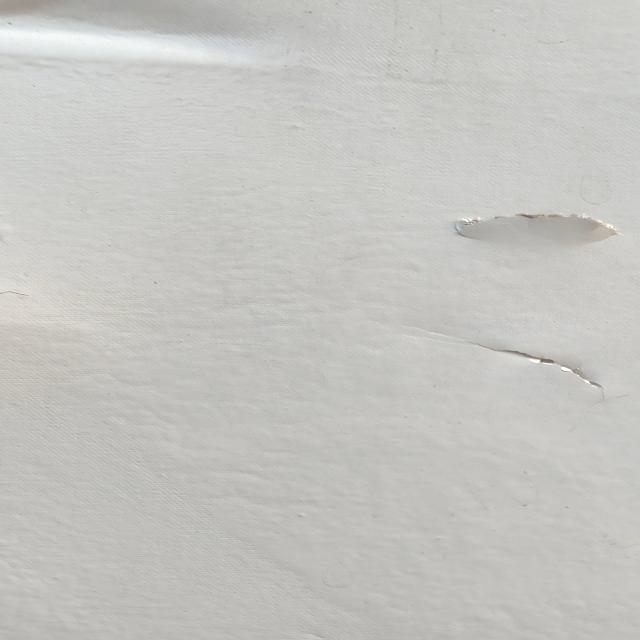Dents or Deformation: (1, 1, 276, 95)
Scratches: (434, 327, 630, 408), (460, 201, 626, 260)
